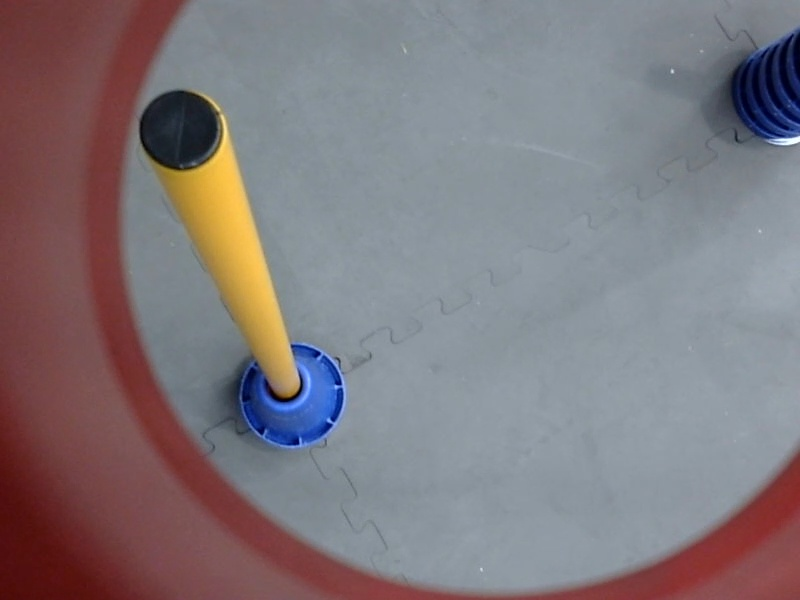tip: (135, 87, 226, 179)
